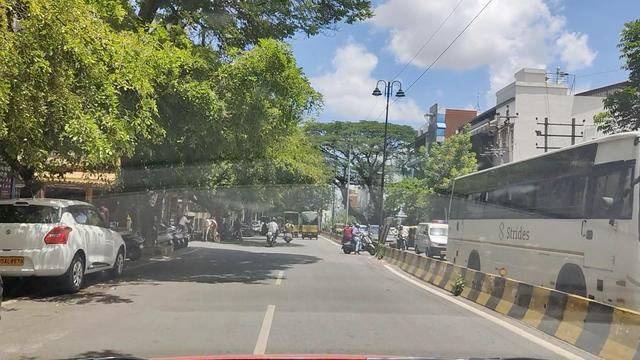LMV: (339, 222, 379, 262), (261, 213, 279, 255), (284, 218, 296, 243)
